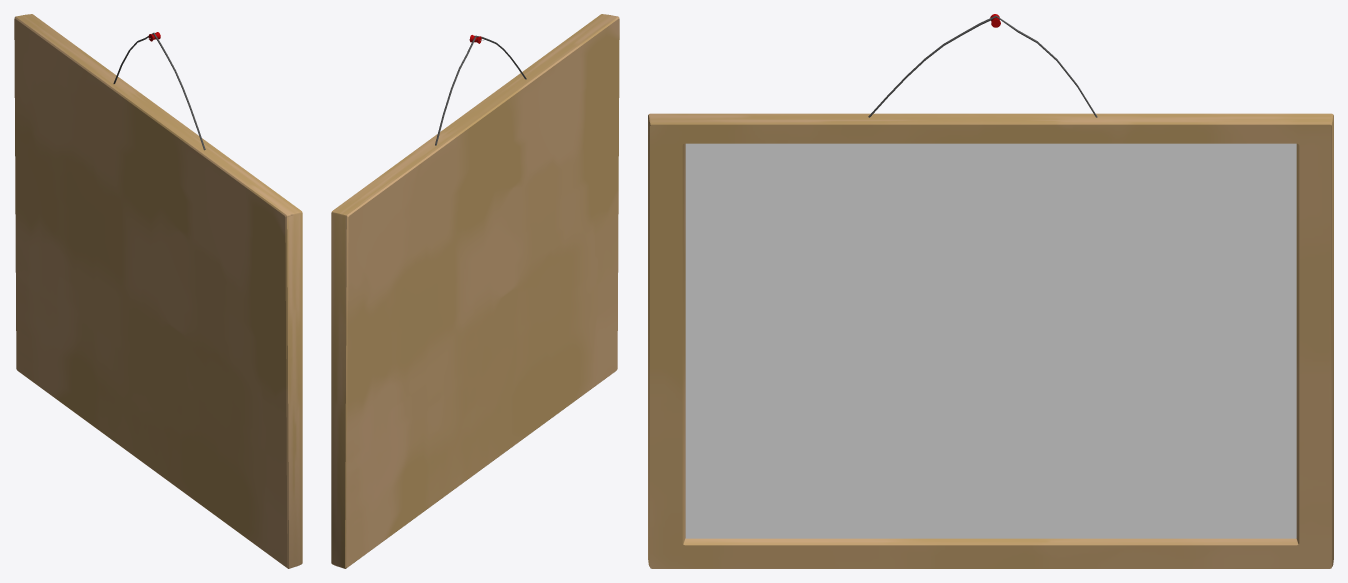
Rendered from hangingpictureframe.fbx.
The picture shows the model from 3 angles, left to right: view 1: azimuth 30°, elevation 25°; view 2: azimuth 150°, elevation 25°; view 3: azimuth 270°, elevation 25°; orthographic projection. The views are drawn at different scales.
Visible parts, largest first — view 1: hanging picture frame; view 2: hanging picture frame; view 3: hanging picture frame.
Part boxes in pixels (x1=…): hanging picture frame: x1=14, y1=14, x2=302, y2=568; hanging picture frame: x1=331, y1=14, x2=619, y2=568; hanging picture frame: x1=648, y1=15, x2=1333, y2=568.
Size of the model in its own units: 0.1108 by 2.45 by 2.78.
5 materials, 1 textured.
